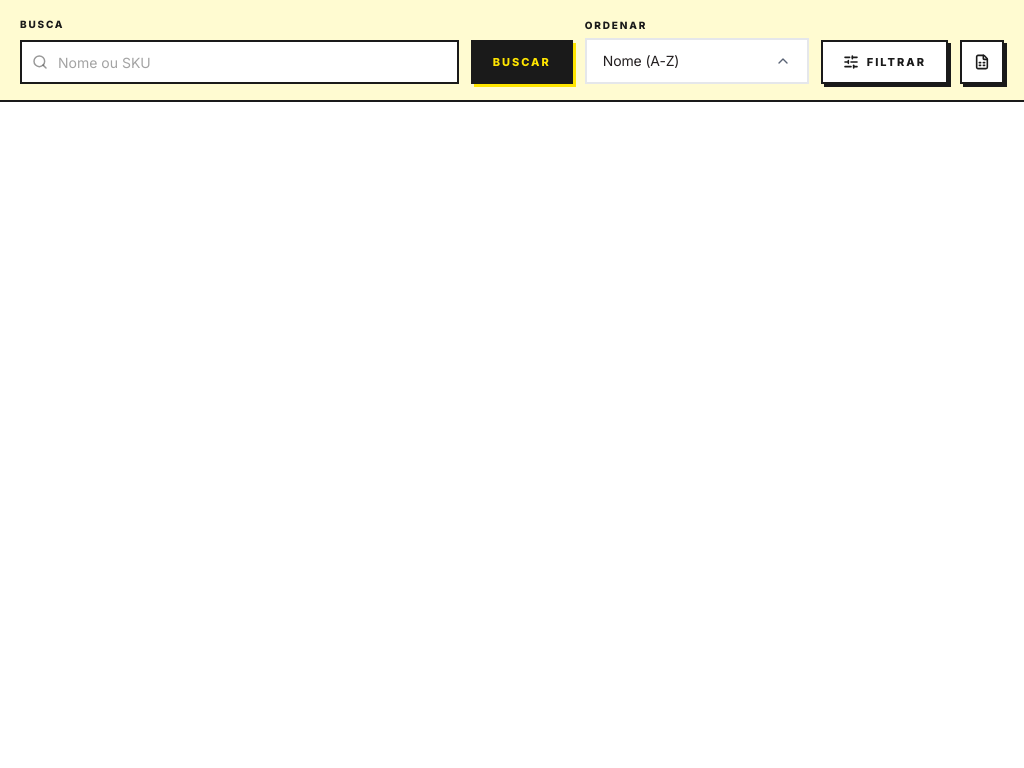
it: StockToolbar › opens the drawer dialog when Filtrar is clicked
Click the button "Filtrar": point(884, 62) [821,40,948,84]
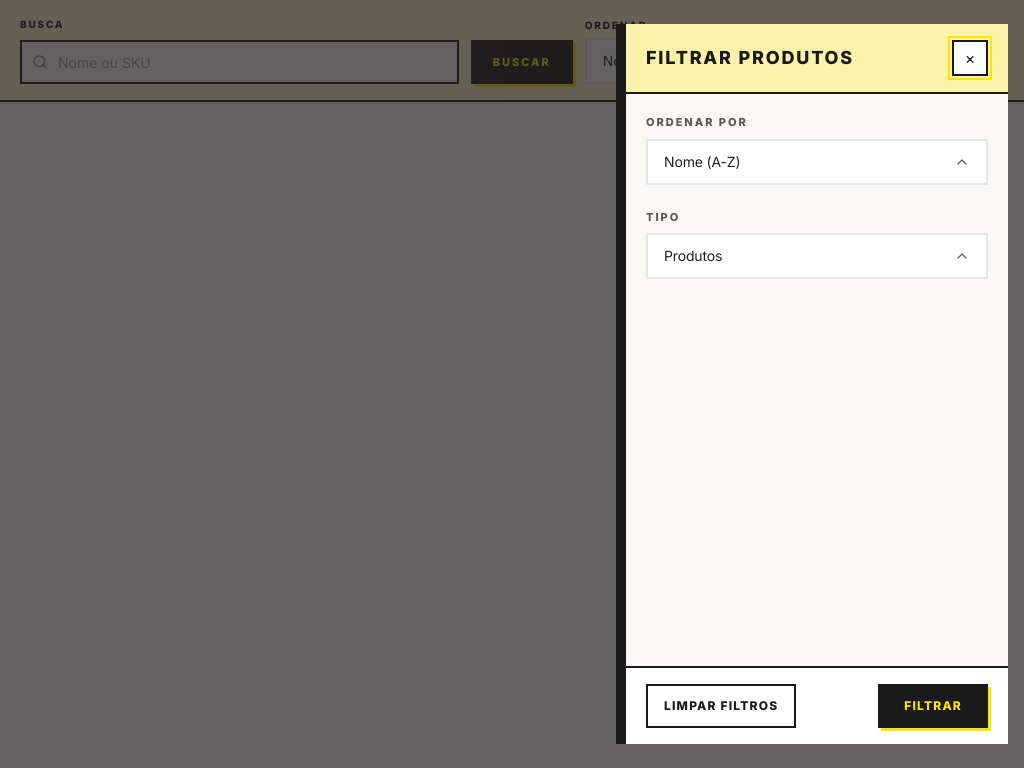
Now the dialog is shown, box [624,24,1008,744]
